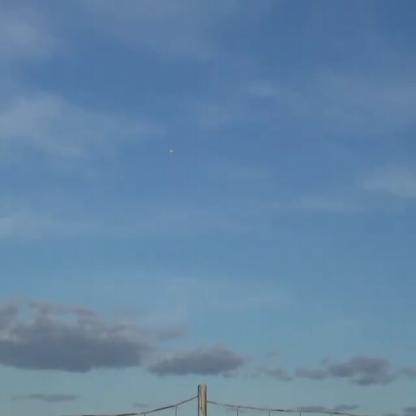CIV_Plane: (168, 146, 176, 155)
